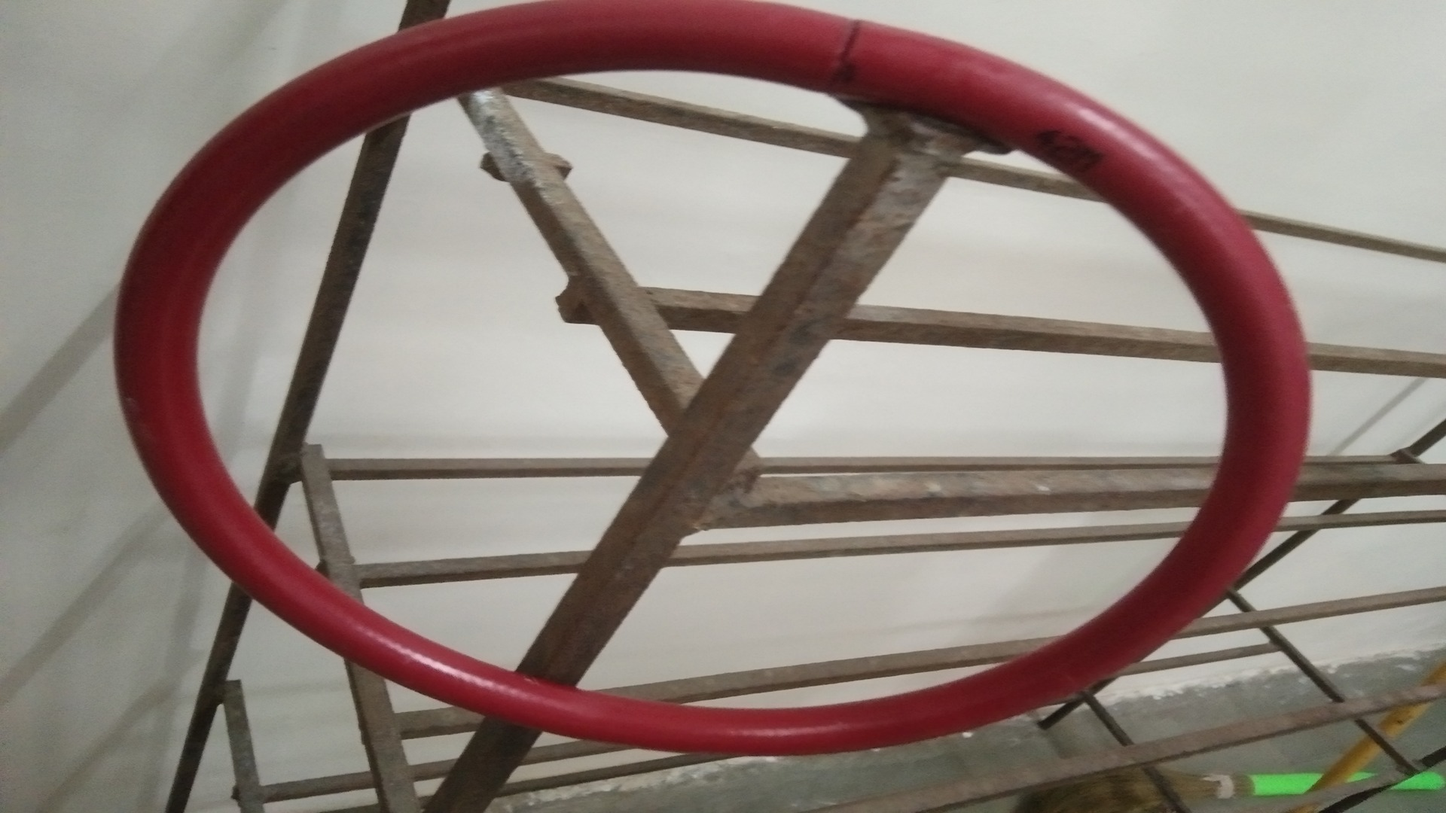Red ring: (112, 6, 1286, 757)
